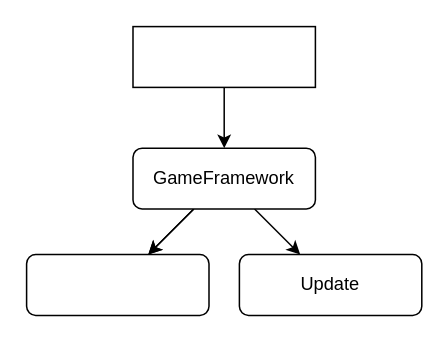
Some shapes in this 448 by 342 pixel diagram are drawn without their labels. Here are the shapes that lost their labels. From the top down, the centre of each, then its label:
At (x=223, y=56): "GameMainThread".
At (x=117, y=284): "Start".
